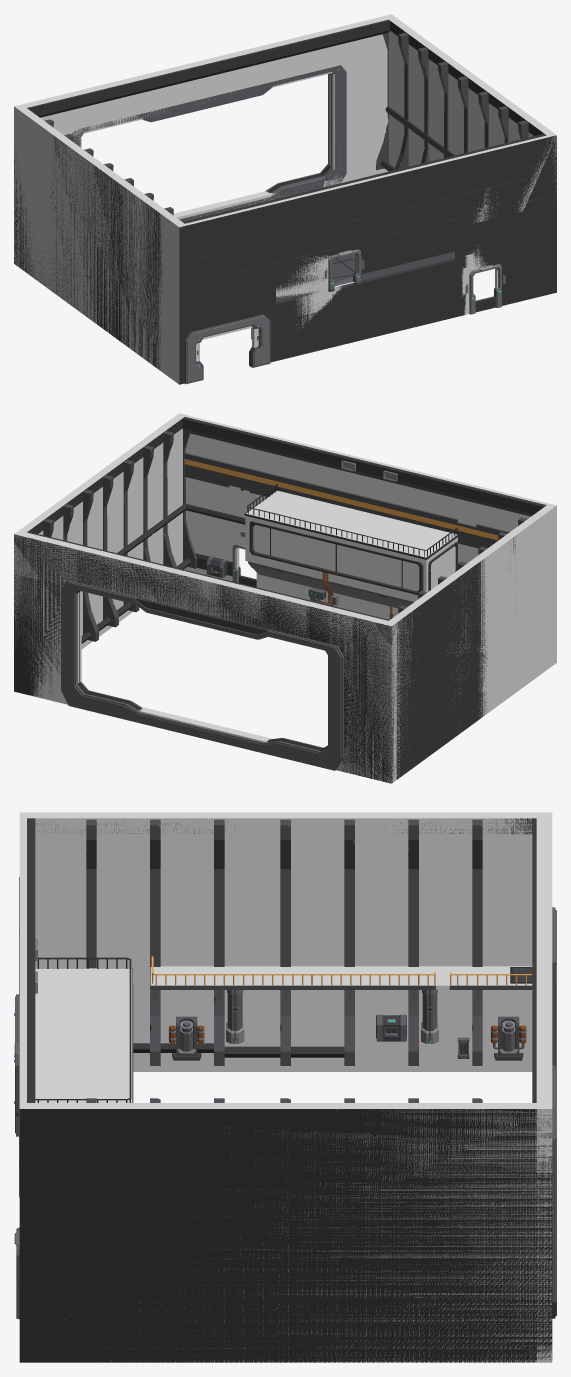
The model's file is SM_Bld_Hanger_01.fbx.
3 renders of one model, top to bottom at view 1: azimuth 30°, elevation 25°; view 2: azimuth 150°, elevation 25°; view 3: azimuth 270°, elevation 25°, orthographic. The views are drawn at different scales.
Visible parts, largest first — view 1: SM_Bld_Hanger_01_LOD0, SM_Bld_Hanger_01_ConvexHulls; view 2: SM_Bld_Hanger_01_LOD0, SM_Bld_Hanger_01_ConvexHulls; view 3: SM_Bld_Hanger_01_LOD0, SM_Bld_Hanger_01_ConvexHulls.
Part boxes in pixels (x1,y1,x2,y2): SM_Bld_Hanger_01_LOD0: (14, 19, 556, 384); SM_Bld_Hanger_01_ConvexHulls: (14, 14, 556, 384); SM_Bld_Hanger_01_LOD0: (14, 417, 546, 783); SM_Bld_Hanger_01_ConvexHulls: (14, 413, 556, 783); SM_Bld_Hanger_01_LOD0: (14, 818, 556, 1362); SM_Bld_Hanger_01_ConvexHulls: (19, 812, 552, 1362).
Size of the model in its own units: 3105 by 4016 by 1600.
1 material, 1 textured.
